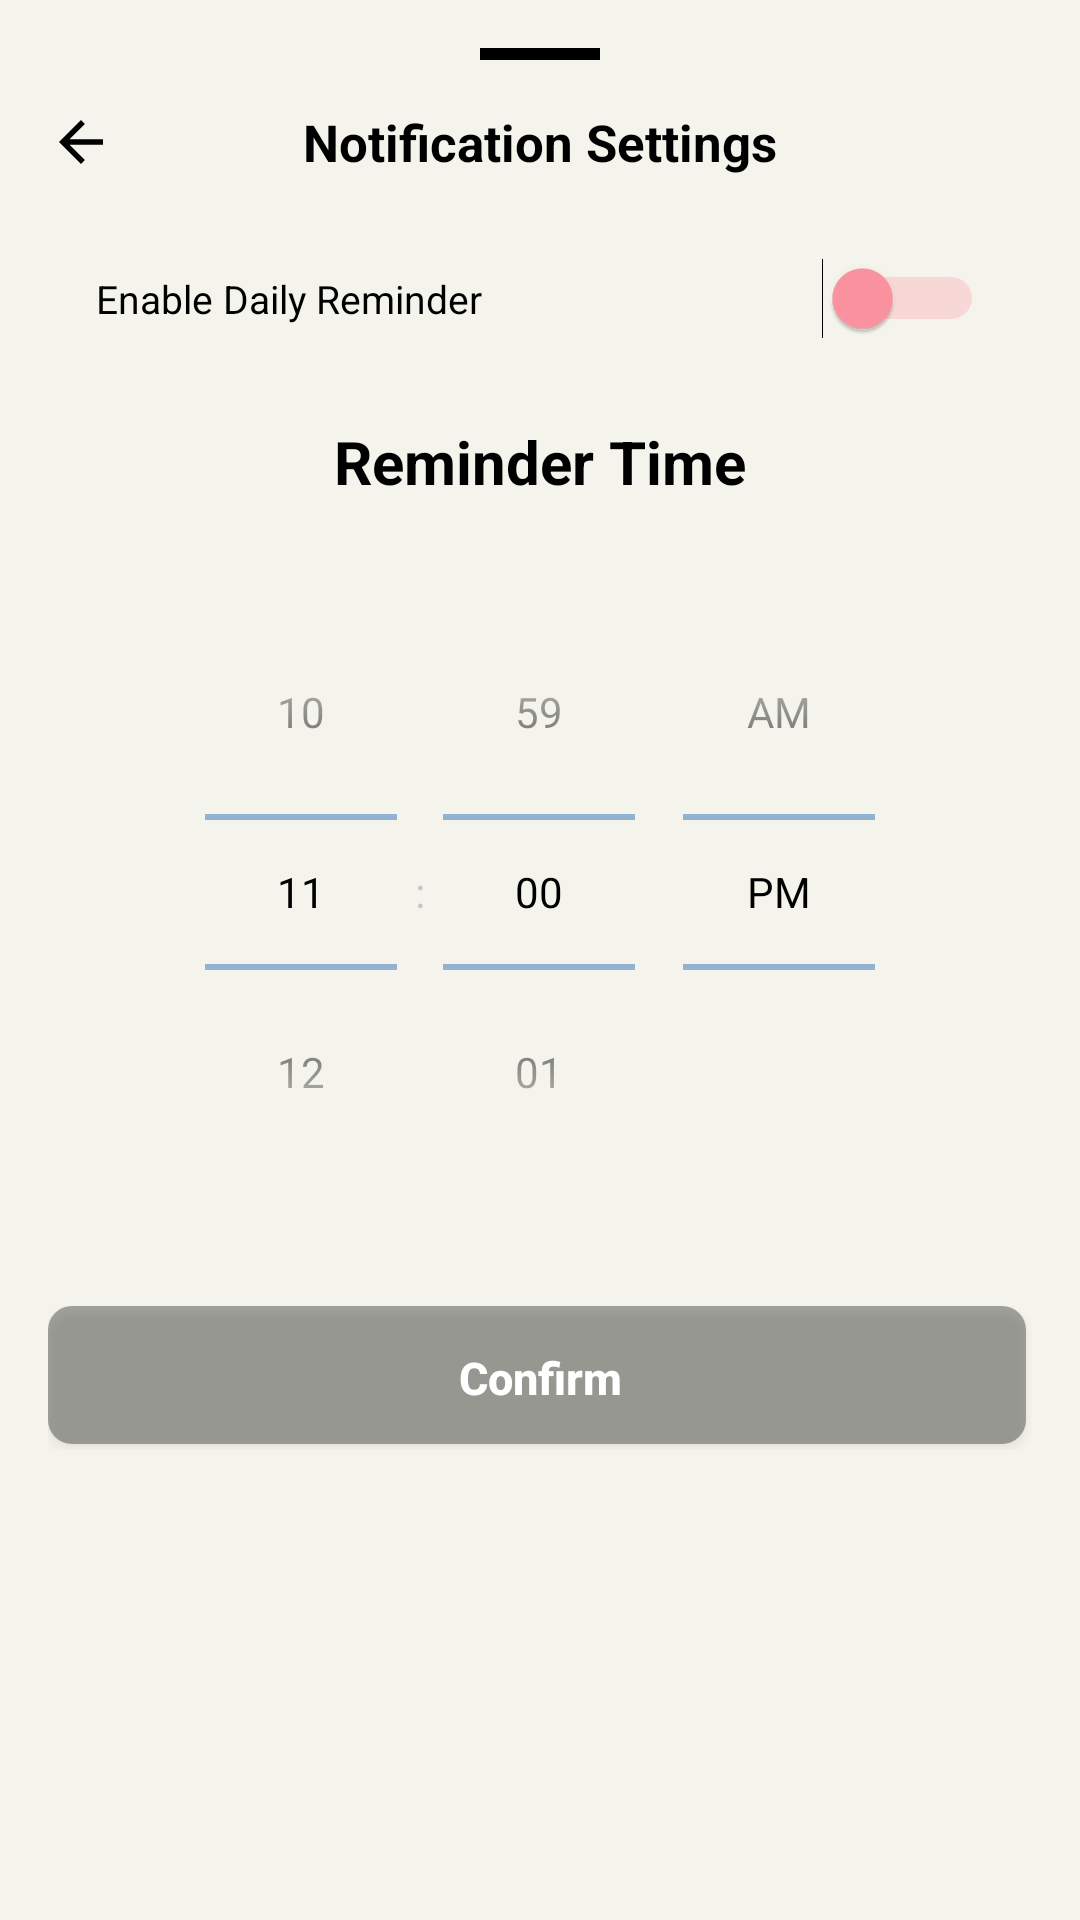

Point at icon controls on the screen. Image size 1080 x 1920, points as point (x, y).
Back: point (81, 142)
